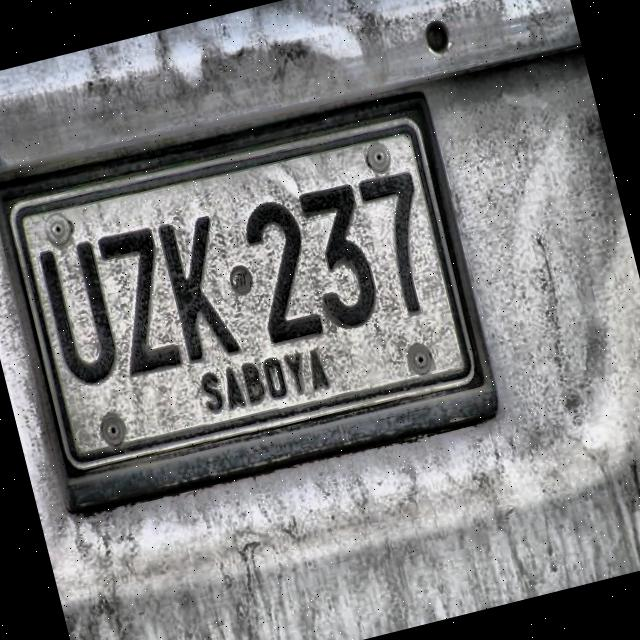plate: (13, 127, 468, 463)
